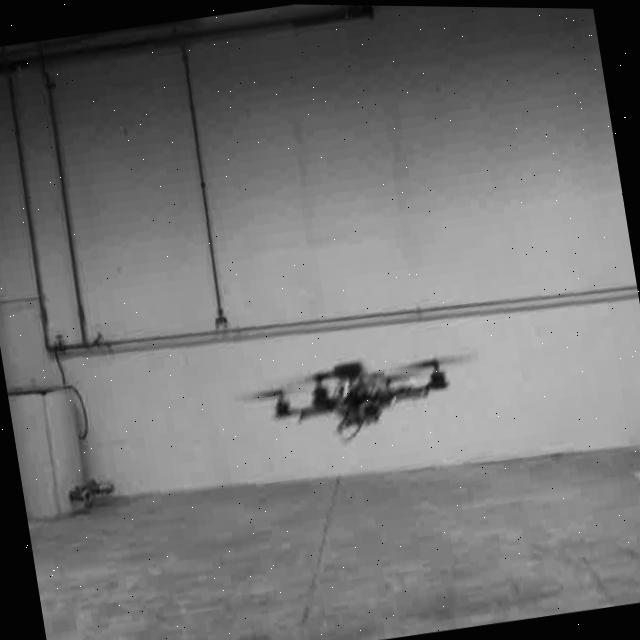drone: (202, 262, 508, 530)
